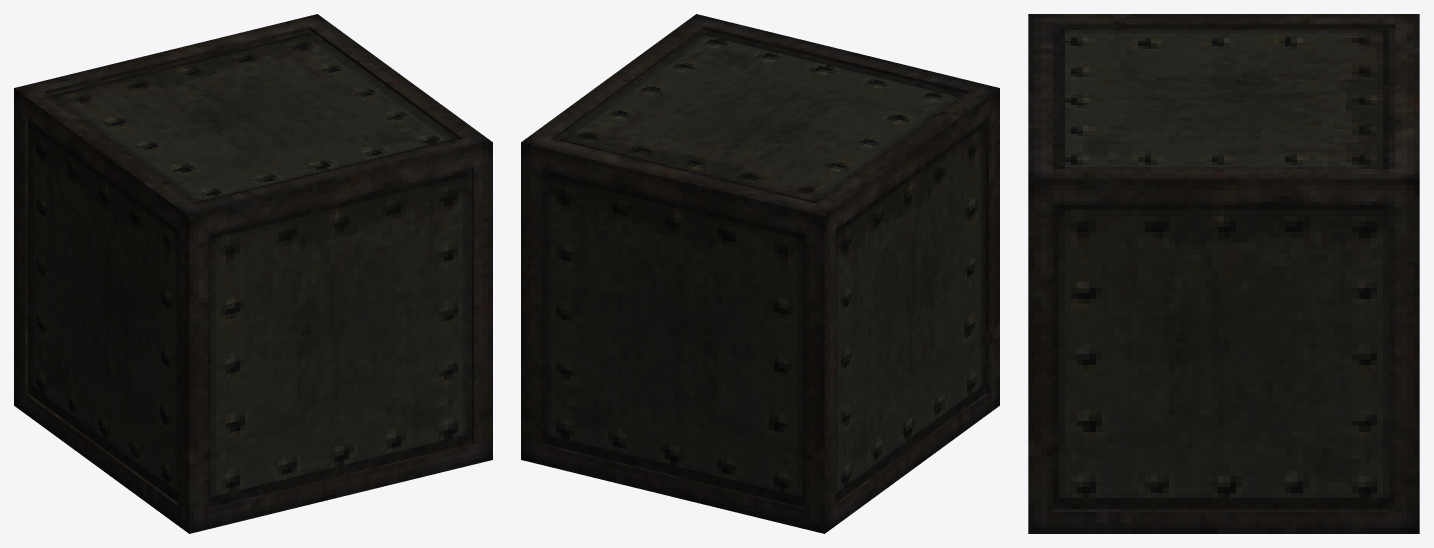
File: crate_1.obj
The picture shows the model from 3 angles, left to right: view 1: azimuth 30°, elevation 25°; view 2: azimuth 150°, elevation 25°; view 3: azimuth 270°, elevation 25°; orthographic projection. The views are drawn at different scales.
Visible parts, largest first — view 1: crate_1; view 2: crate_1; view 3: crate_1.
Boxes of the visible parts, x1,y1,x2,y2 form: crate_1: [14, 14, 492, 533]; crate_1: [521, 14, 999, 533]; crate_1: [1028, 14, 1419, 533].
Size of the model in its own units: 1 by 1 by 1.
